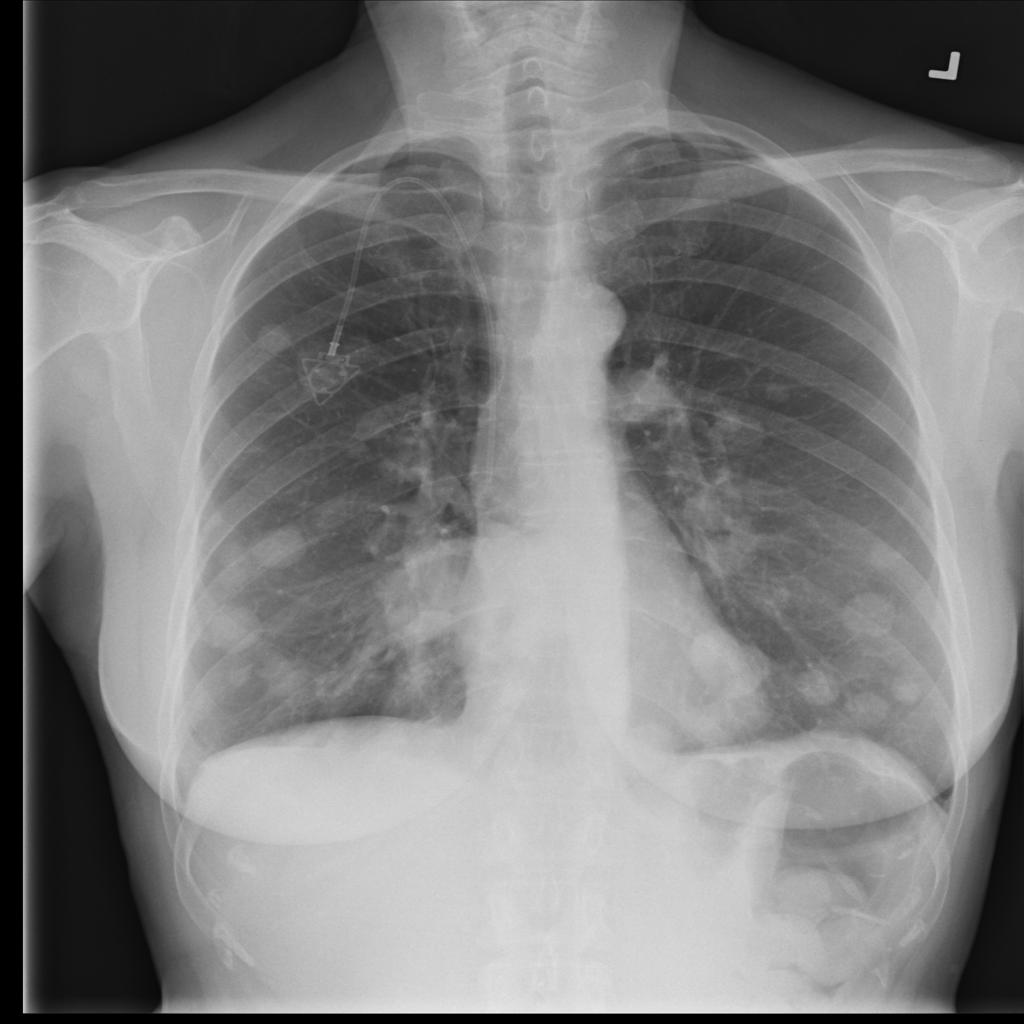nodule: (668, 610, 783, 725), (604, 361, 684, 434), (702, 395, 784, 461), (249, 650, 333, 714), (234, 518, 314, 584), (830, 588, 911, 649), (195, 597, 269, 662), (782, 647, 851, 716), (246, 314, 304, 362), (860, 533, 921, 577), (883, 664, 939, 711), (840, 686, 896, 731), (752, 369, 809, 413), (211, 656, 262, 704)
